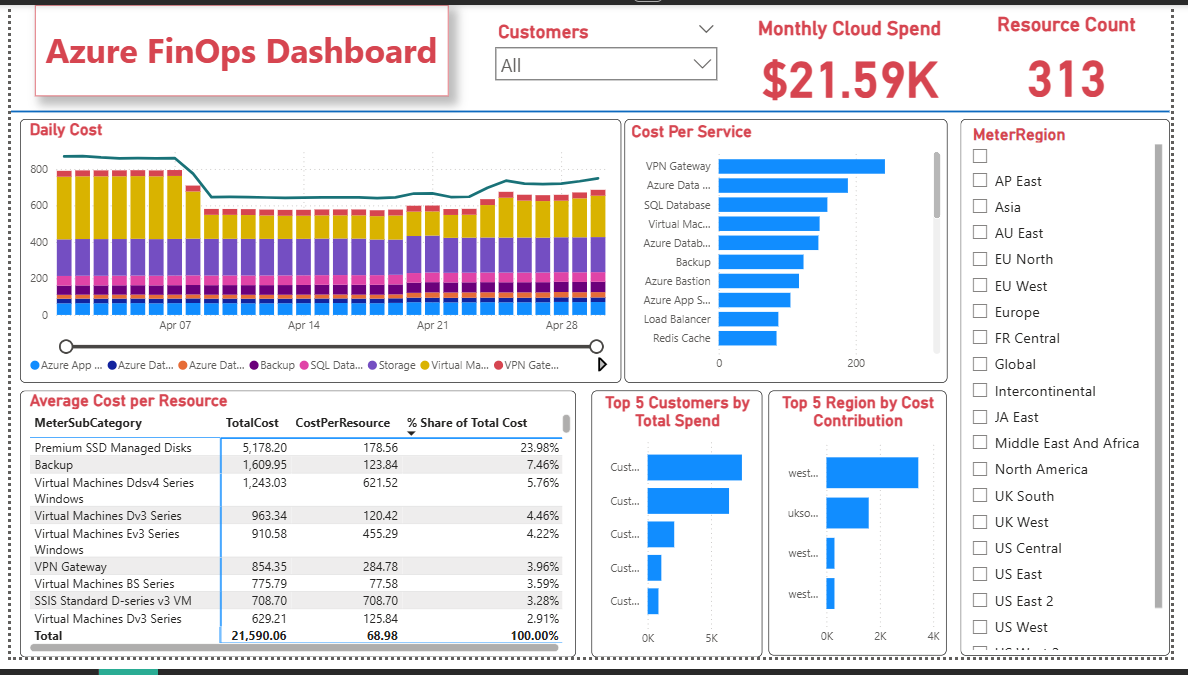

The dashboard page shown, as its layout file describes it:
{"tool":"powerbi","page":{"name":"Azure FinOps","canvas":[1280,720],"ordinal":0},"visuals":[{"type":"shape","box":[0,111.5,1279.4,13.2],"z":0},{"type":"card","title":"Monthly Cloud Spend","fields":{"Values":["Sum(Usage.BillingPreTaxTotal)"]},"box":[801.7,8.3,268.3,104.4],"z":1000},{"type":"card","title":"Resource Count","fields":{"Values":["Count(Usage.MeterId)"]},"box":[1051.7,7.7,227.7,106.1],"z":2000},{"type":"barChart","title":"Top 5 Customers by Total Spend","fields":{"Category":["Customers.CustomerOrganisationName"],"Y":["Sum(Usage.BillingPreTaxTotal)"]},"box":[640.6,425.2,189,294.8],"z":3000},{"type":"slicer","fields":{"Values":["Customers.CustomerOrganisationName"]},"box":[524.9,11.6,264.4,100.3],"z":4000},{"type":"lineStackedColumnComboChart","title":"Daily Cost","fields":{"Category":["Date.UsageDate"],"Series":["Meter.MeterCategory"],"Y":["Sum(Usage.BillingPreTaxTotal)"],"Y2":["Usage.Total Daily Spend (All Services)"]},"box":[10,125.4,663.8,291.4],"z":5000},{"type":"barChart","title":"Cost Per Service","fields":{"Category":["Meter.MeterCategory"],"Y":["Usage.CostPerResource"]},"box":[677.3,125.4,357,291.4],"z":6000},{"type":"textbox","box":[26.2,0,456.5,100.5],"z":7000},{"type":"pivotTable","title":"Average Cost per Resource","fields":{"Rows":["Meter.MeterSubCategory"],"Values":["Sum(Usage.BillingPreTaxTotal)","Usage.CostPerResource","Usage.% of Total Cost"]},"box":[9.4,425.2,614.2,294.8],"z":8000},{"type":"slicer","fields":{"Values":["Meter.MeterRegion"]},"box":[1047.8,125.4,231.6,592.4],"z":9000},{"type":"barChart","title":"Top 5 Region by Cost Contribution","fields":{"Category":["Usage.ResourceLocation"],"Y":["Sum(Usage.BillingPreTaxTotal)"]},"box":[836.7,425.2,197,292.5],"z":10000}]}

Visuals, with their boxes in screenshot pixels (x1, y1, x2, y2), scaled from the page's 1280x720 canvas onto the 1188x675 screenshot:
shape: bbox(0, 105, 1187, 117)
"Monthly Cloud Spend" card: bbox(744, 8, 993, 106)
"Resource Count" card: bbox(976, 7, 1187, 107)
"Top 5 Customers by Total Spend" barChart: bbox(595, 399, 770, 674)
slicer - Customers.CustomerOrganisationName: bbox(487, 11, 733, 105)
"Daily Cost" lineStackedColumnComboChart: bbox(9, 118, 625, 391)
"Cost Per Service" barChart: bbox(629, 118, 960, 391)
textbox: bbox(24, 0, 448, 94)
"Average Cost per Resource" pivotTable: bbox(9, 399, 579, 674)
slicer - Meter.MeterRegion: bbox(972, 118, 1187, 673)
"Top 5 Region by Cost Contribution" barChart: bbox(777, 399, 959, 673)
